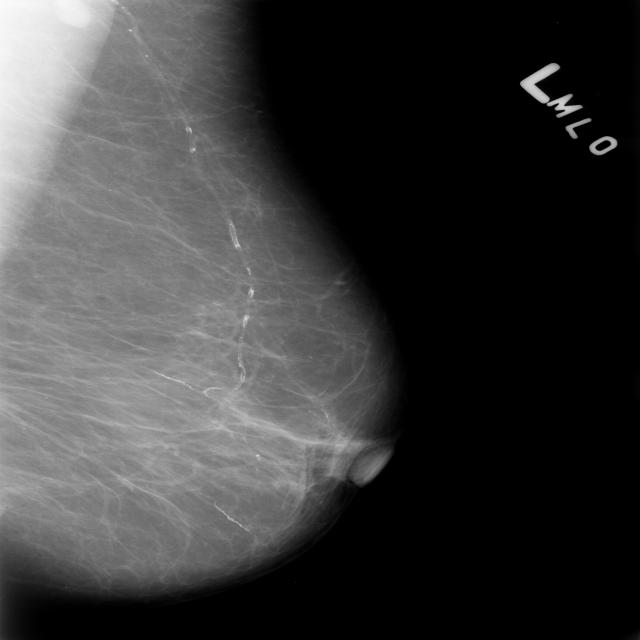normal: (0, 11, 409, 613)
